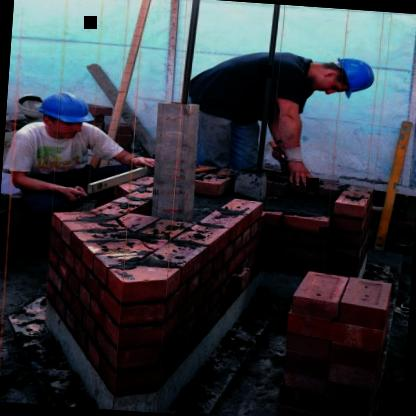helmet: (304, 51, 376, 100), (32, 90, 90, 140)
